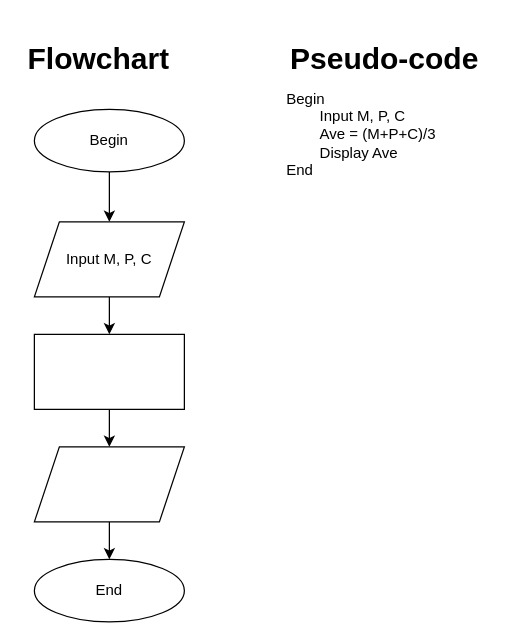
This 518x644 diagram has some shape labels left out. The centre of each missing label's shape, as x and y in pixels:
"Ave = (M+P+C)/3" belongs at (x=108, y=371).
"Display Ave" belongs at (x=108, y=484).
